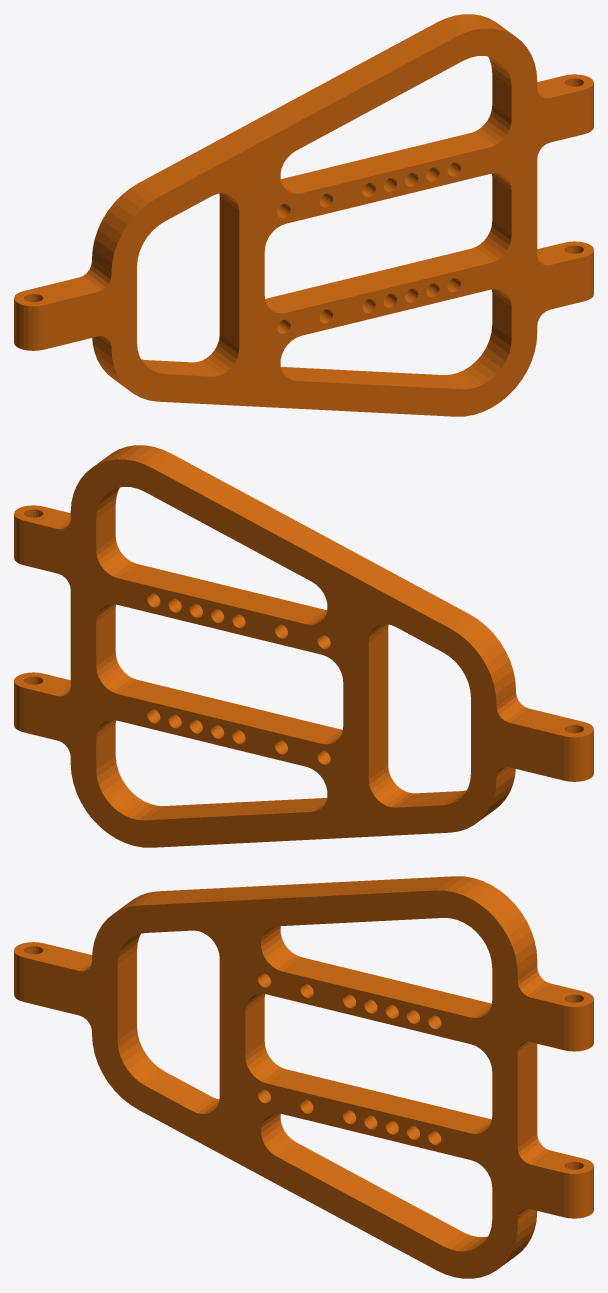
Rendered from lower_arm.dae.
3 views of the same model, one above another, from view 1: azimuth 30°, elevation 25°; view 2: azimuth 150°, elevation 25°; view 3: azimuth 330°, elevation 25° (orthographic).
Visible parts, largest first — view 1: Lower_Arm; view 2: Lower_Arm; view 3: Lower_Arm.
Part boxes in pixels (<box>): Lower_Arm: <box>14,14,593,416</box>; Lower_Arm: <box>14,445,593,847</box>; Lower_Arm: <box>14,876,593,1278</box>.
Size of the model in its own units: 0.27 by 0.0159 by 0.1728.
